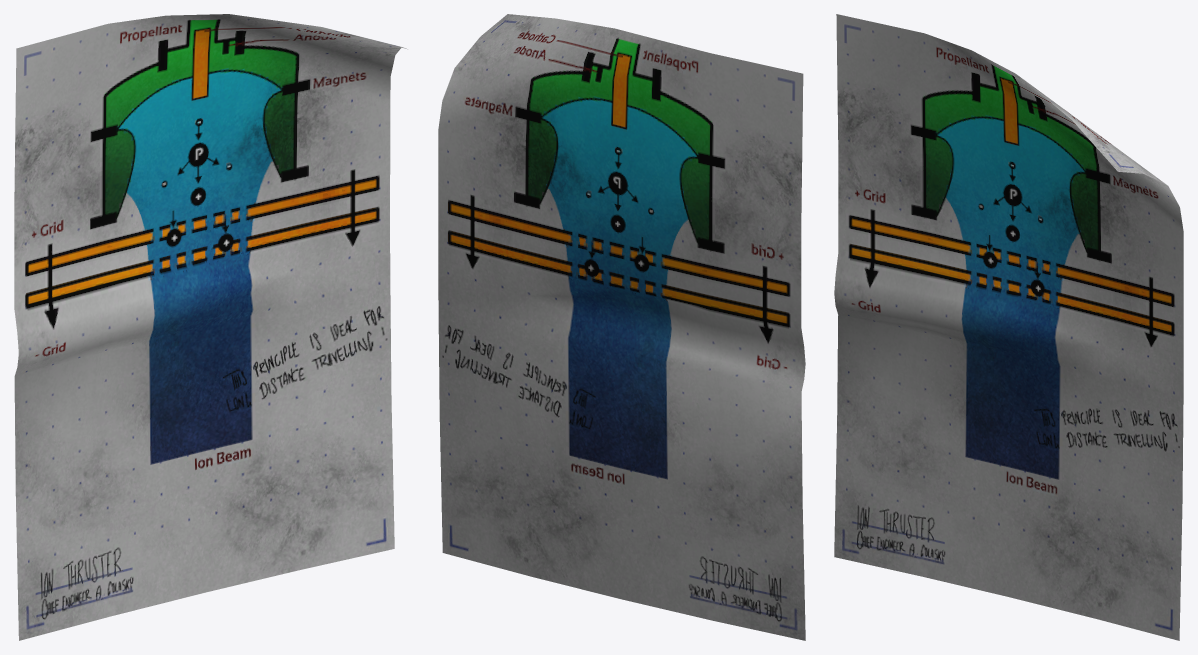
The model's file is rocket_design_04.dae.
The picture shows the model from 3 angles, left to right: view 1: azimuth 30°, elevation 25°; view 2: azimuth 150°, elevation 25°; view 3: azimuth 330°, elevation 25°; orthographic projection. The views are drawn at different scales.
Visible parts, largest first — view 1: 04; view 2: 04; view 3: 04.
Boxes of the visible parts, x1,y1,x2,y2 form: 04: (14,14,407,640); 04: (438,14,805,640); 04: (834,14,1183,640).
Bounding box in the file's own units: 0.9995 × 1.5 × 0.2234.
